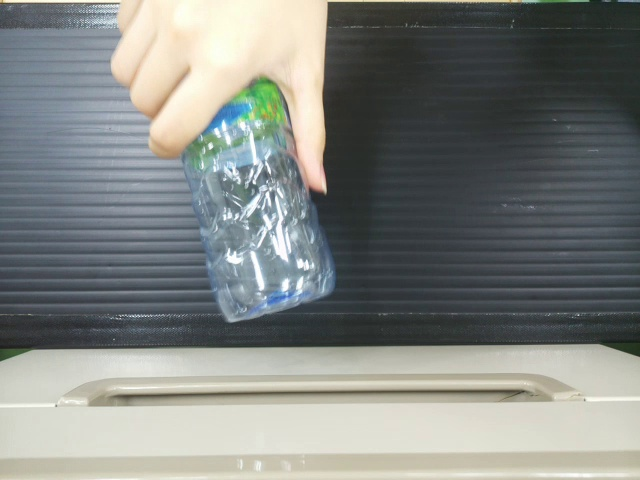bottle: (156, 83, 354, 325)
